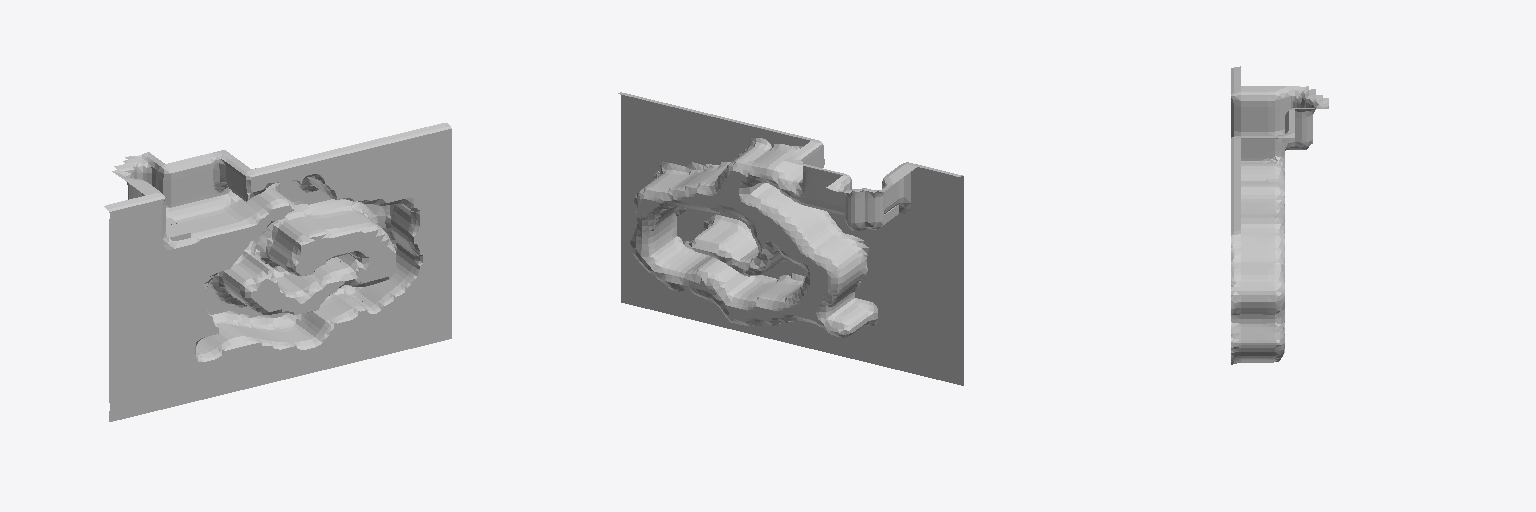
File: E0M2.Display.obj
3 renders of one model, left to right at view 1: azimuth 30°, elevation 25°; view 2: azimuth 150°, elevation 25°; view 3: azimuth 270°, elevation 25°, orthographic.
Parts seen in each view (by area): view 1: World.Display; view 2: World.Display; view 3: World.Display.
Boxes of the visible parts, x1,y1,x2,y2 form: World.Display: [104, 123, 451, 421]; World.Display: [618, 92, 963, 385]; World.Display: [1231, 66, 1328, 364].
Bounding box in the file's own units: 58 × 34.44 × 14.5.